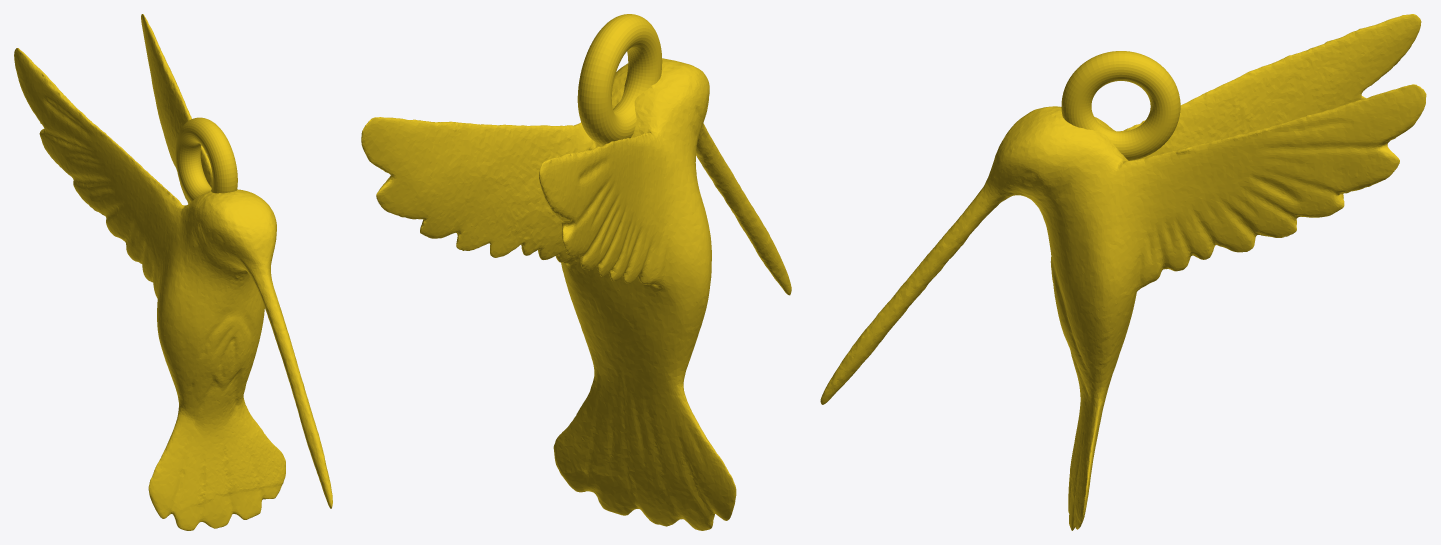
Rendered from FIN COLOUR HUMMINGBIRD.glb.
3 renders of one model, left to right at view 1: azimuth 30°, elevation 25°; view 2: azimuth 150°, elevation 25°; view 3: azimuth 270°, elevation 25°, orthographic. The views are drawn at different scales.
Visible parts, largest first — view 1: COLI2.1; view 2: COLI2.1; view 3: COLI2.1.
Boxes of the visible parts, box(x1,y1,x2,y2) form: COLI2.1: box(14, 14, 332, 530); COLI2.1: box(361, 14, 791, 530); COLI2.1: box(820, 14, 1426, 530).
Size of the model in its own units: 12.68 by 34.68 by 40.87.
